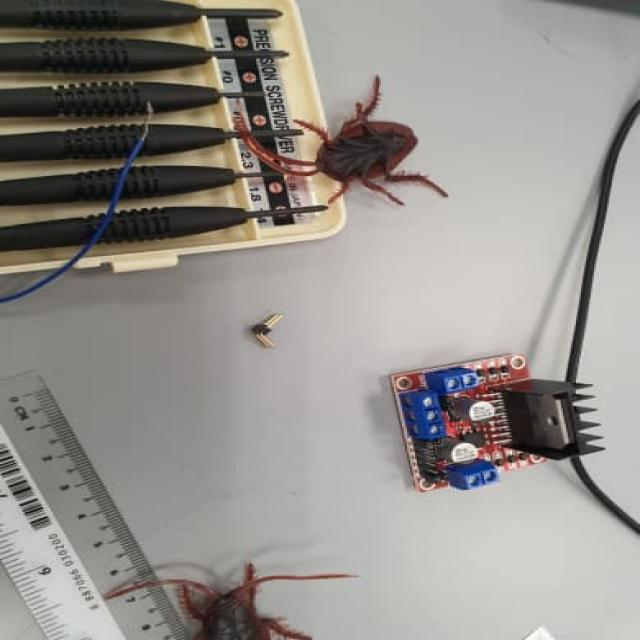Cockroach: (223, 76, 451, 210), (92, 547, 361, 640)
